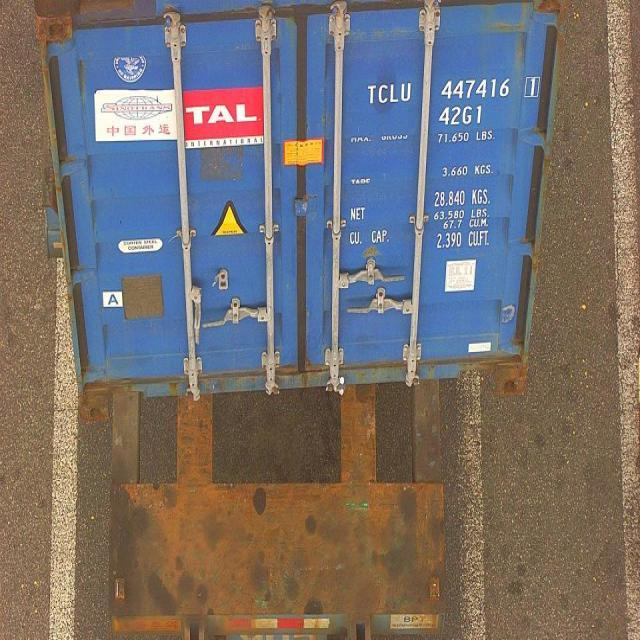ISO: (439, 107, 485, 127)
container_number: (373, 78, 534, 102)
